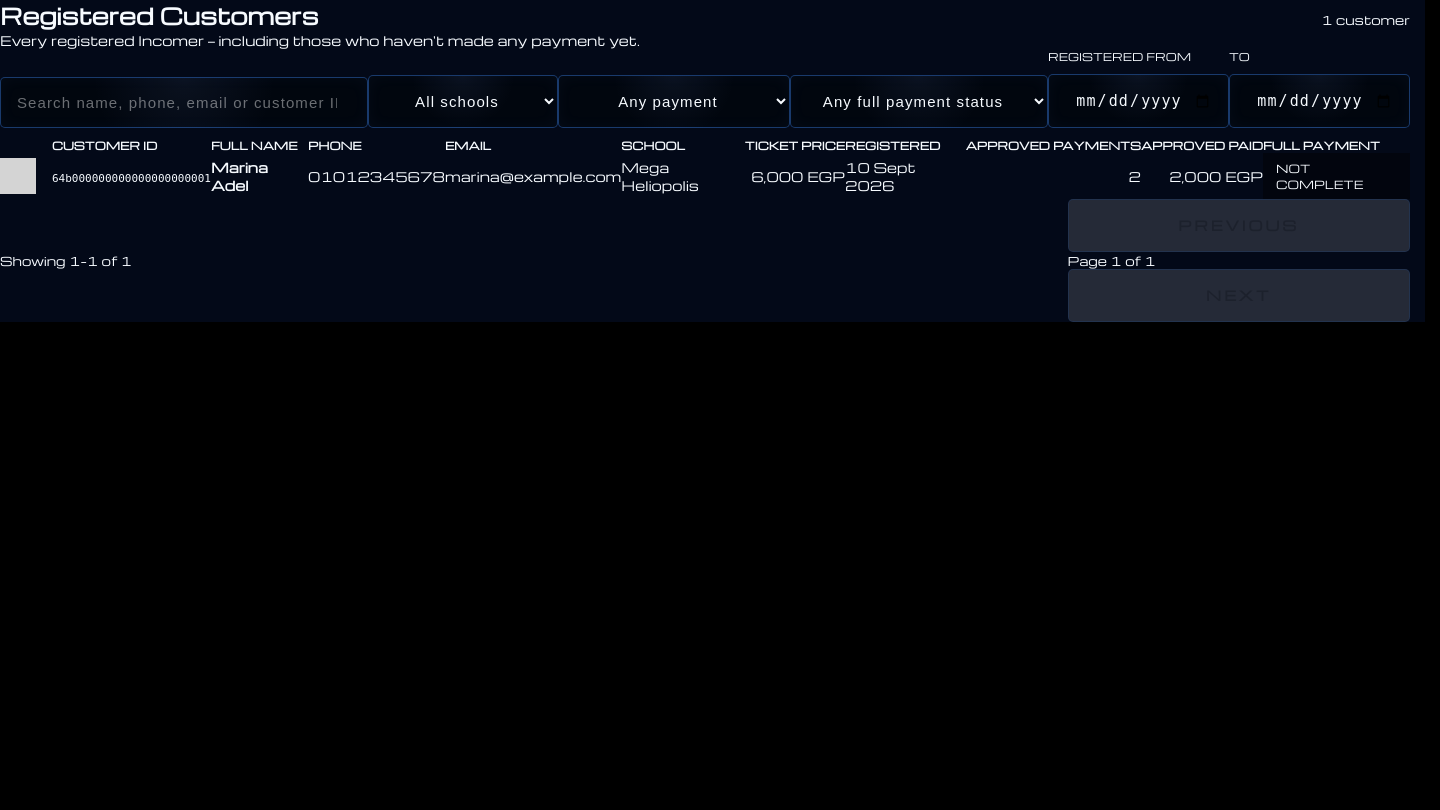
Test: selecting a row loads that customer's details lazily: profile, payment summary and history
Step 1. Click the text "Marina Adel" → [260, 176], box [211, 153, 308, 199]
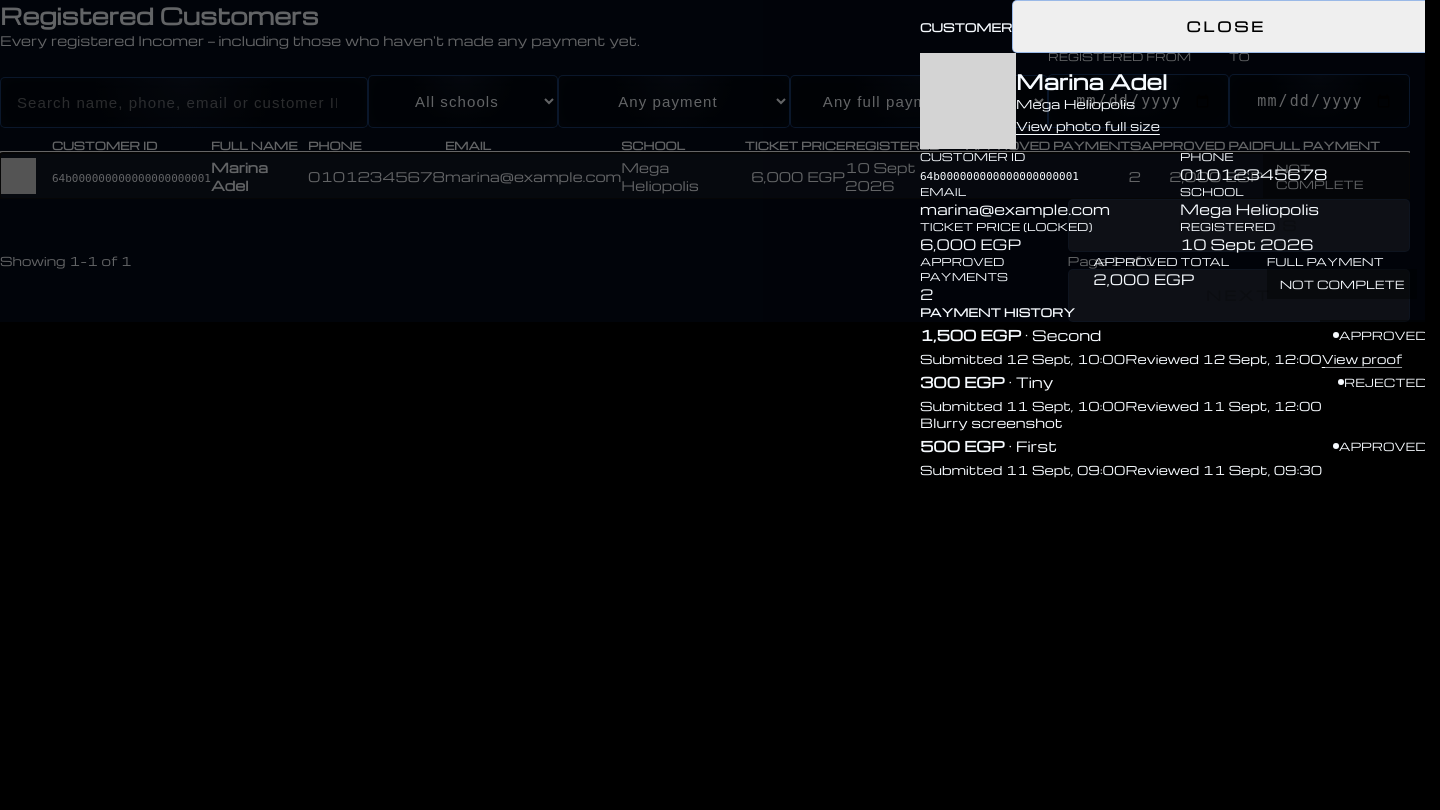
Result: the heading "Marina Adel" is shown at [1016, 67, 1167, 95]
Result: the text "Customer ID" is shown at [920, 149, 1025, 164]
Result: the text "01012345678" is shown at [1180, 164, 1327, 184]
